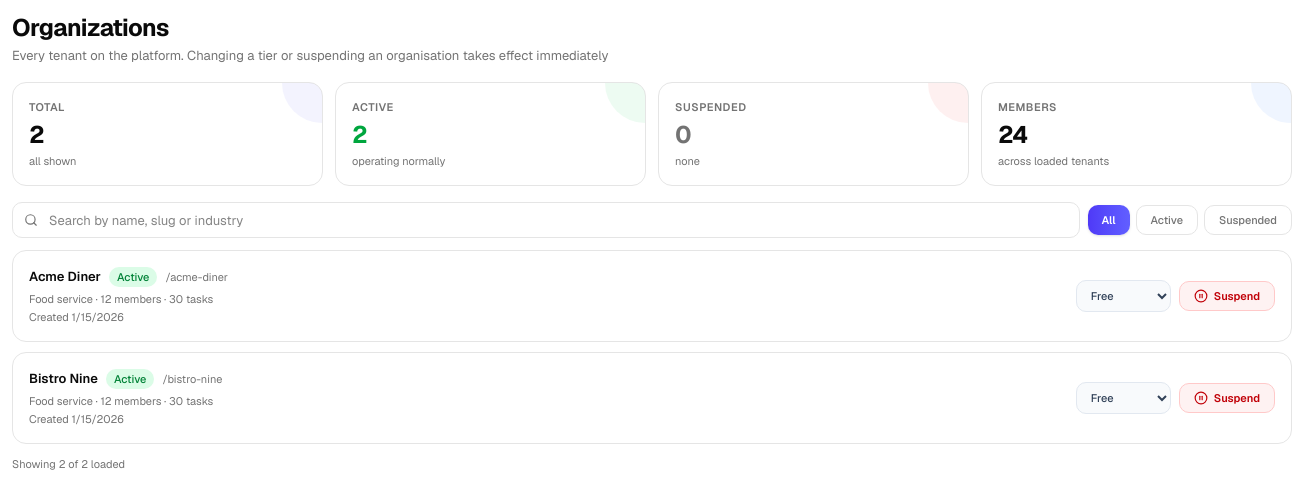
Organizations › filters by name
Expected: the heading "Acme Diner" is shown, 29,267 -> 101,287
Type "bistro" into the search field named "Search organizations".
click(546, 220); type("bistro")  # box 12,202 -> 1080,238
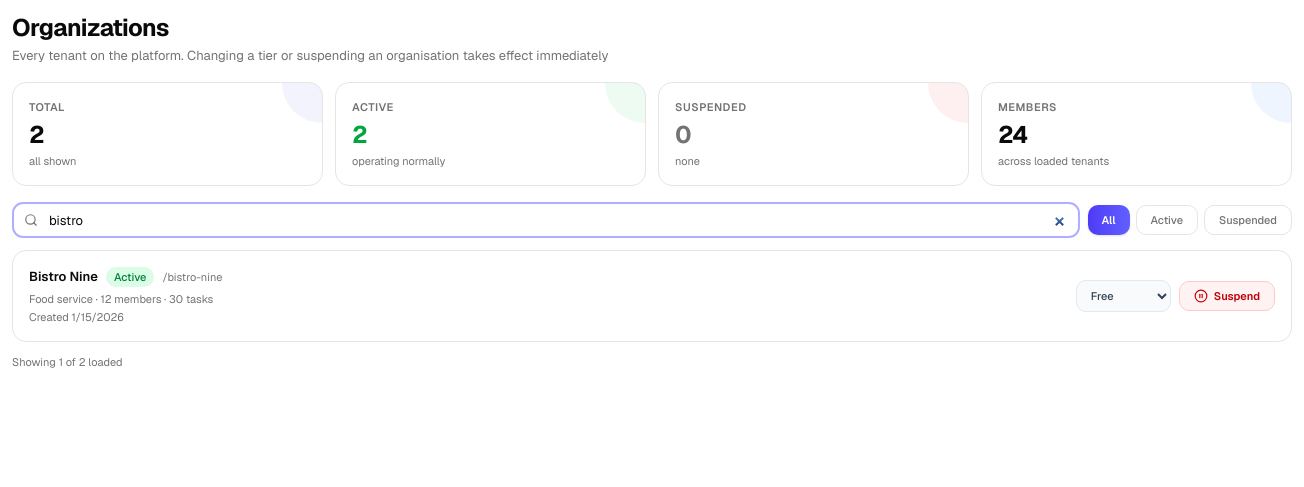
Expected: the heading "Bistro Nine" is shown, 29,267 -> 98,287
Now the heading "Acme Diner" is gone
